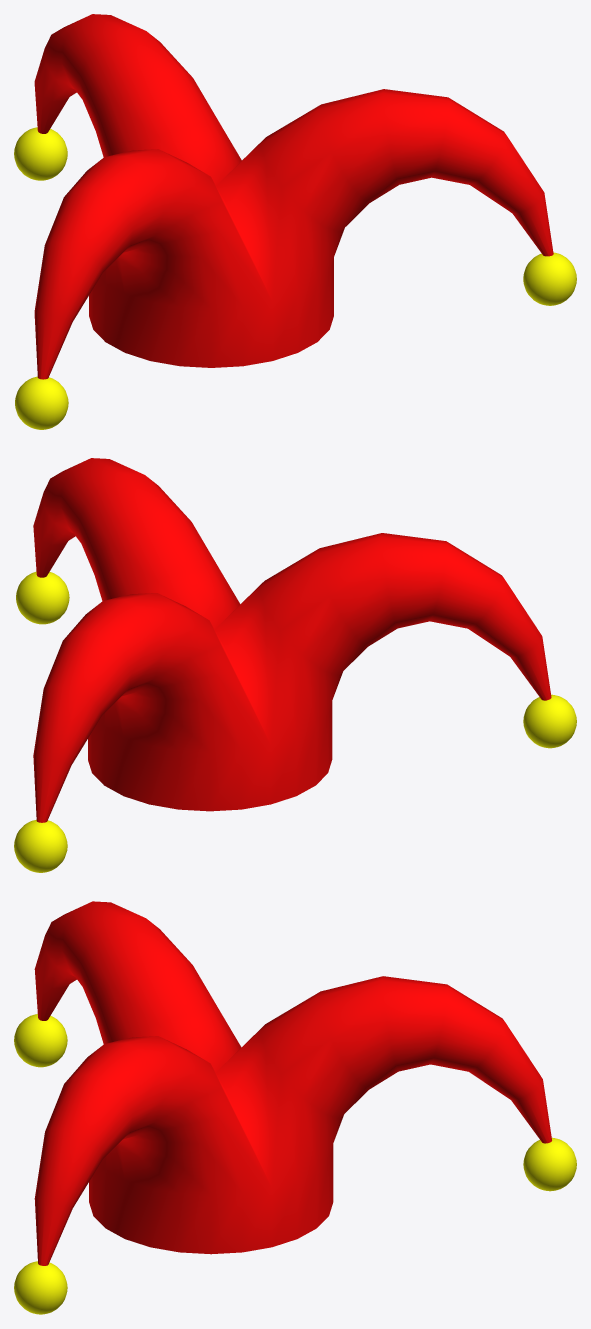
Rendered from Red_Hat.fbx.
3 renders of one model, top to bottom at view 1: azimuth 30°, elevation 25°; view 2: azimuth 150°, elevation 25°; view 3: azimuth 270°, elevation 25°, orthographic.
Visible parts, largest first — view 1: 넙스 경로, 구체.002; view 2: 넙스 경로, 구체.002; view 3: 넙스 경로, 구체.002.
Part boxes in pixels (x1,y1,x2,y2): 넙스 경로: [34, 14, 553, 379]; 구체.002: [14, 127, 576, 429]; 넙스 경로: [33, 458, 551, 822]; 구체.002: [14, 571, 576, 872]; 넙스 경로: [34, 901, 551, 1265]; 구체.002: [14, 1014, 576, 1314].
Size of the model in its own units: 3.76 by 1.44 by 3.31.
